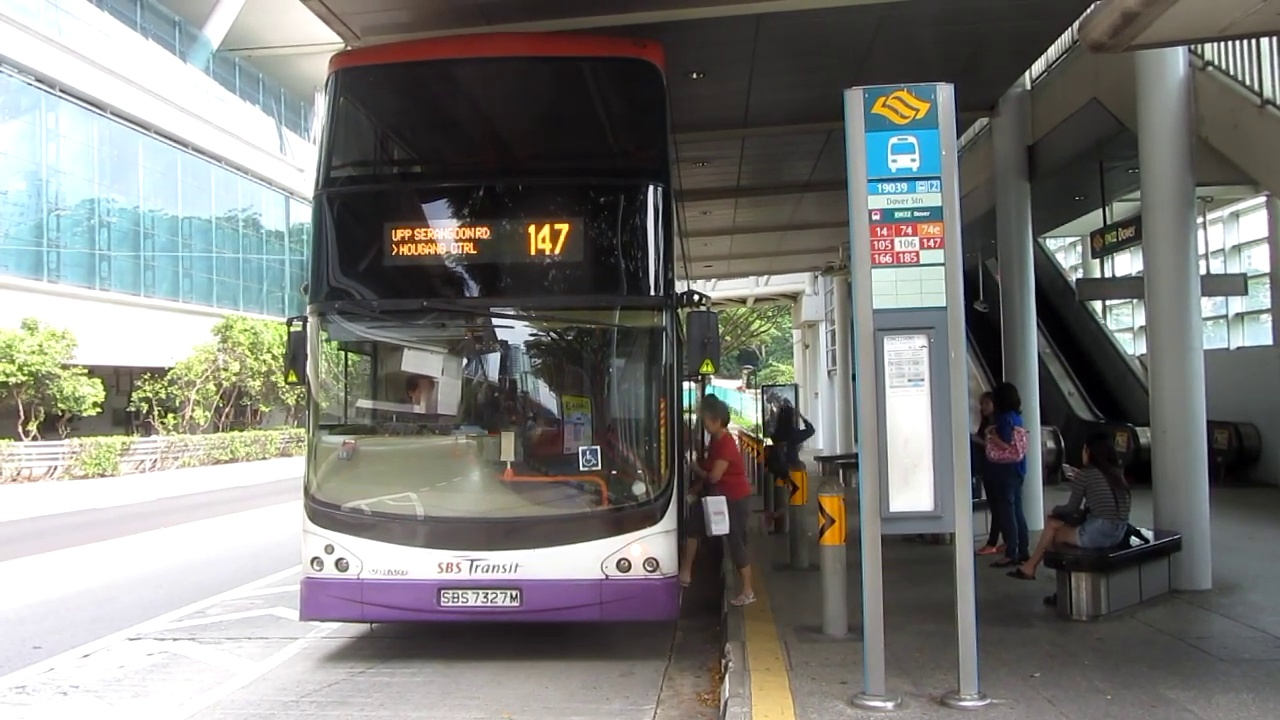bus panel: (380, 215, 588, 269)
